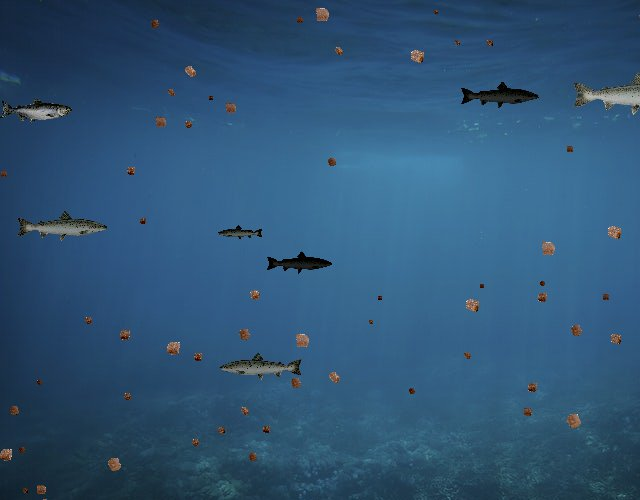Fish: (570, 70, 640, 116), (15, 209, 109, 243), (218, 351, 304, 382), (460, 81, 541, 110), (0, 98, 71, 124), (266, 250, 334, 274), (218, 225, 265, 242)
Pellet: (159, 335, 187, 363), (178, 59, 203, 84), (322, 366, 346, 390), (232, 323, 256, 347), (243, 284, 266, 307), (4, 400, 25, 421), (163, 84, 180, 101), (80, 313, 96, 329), (482, 36, 497, 50), (536, 278, 549, 291), (19, 484, 31, 496)
